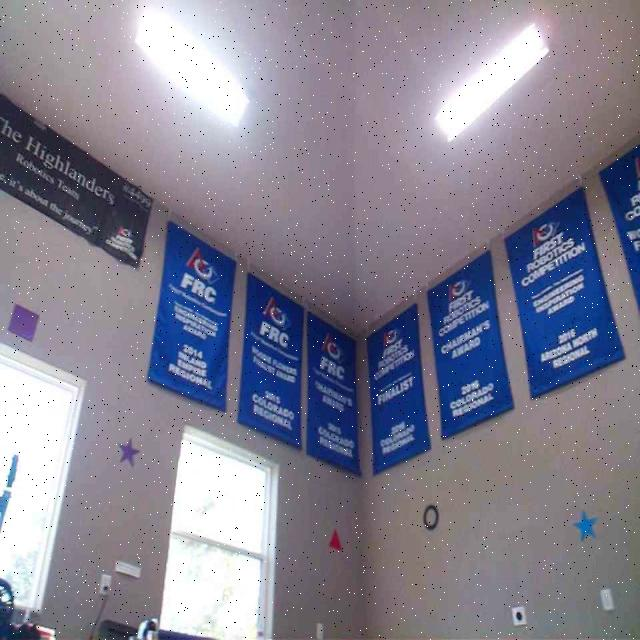ring_black: (423, 504, 437, 531)
square_purple: (6, 304, 38, 341)
star_blue: (573, 508, 598, 540)
star_purple: (117, 436, 140, 465)
triangle_red: (329, 529, 342, 552)
